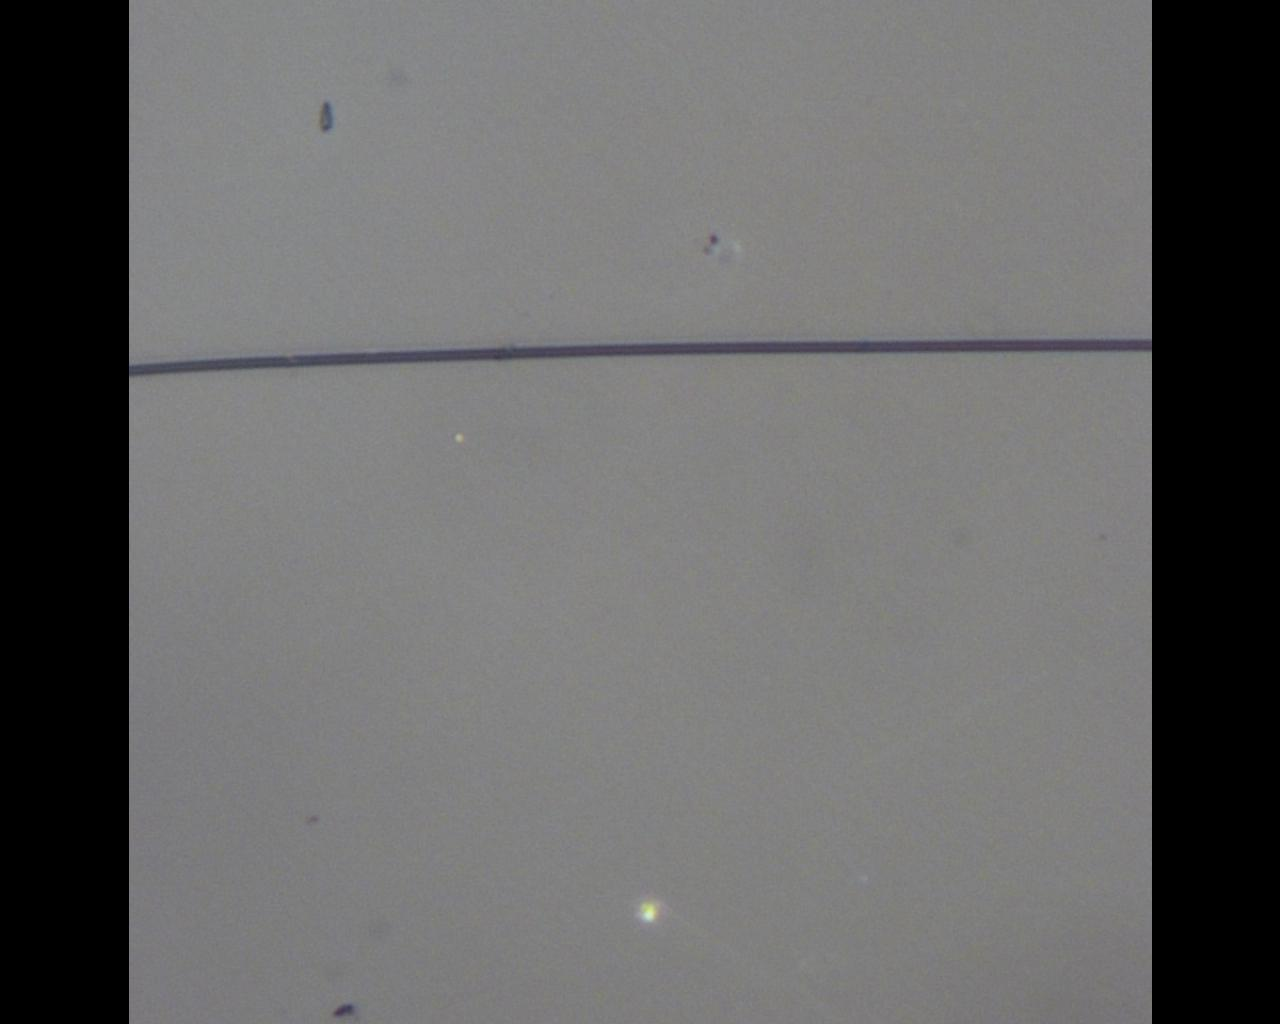fiber: (127, 336, 1151, 379)
